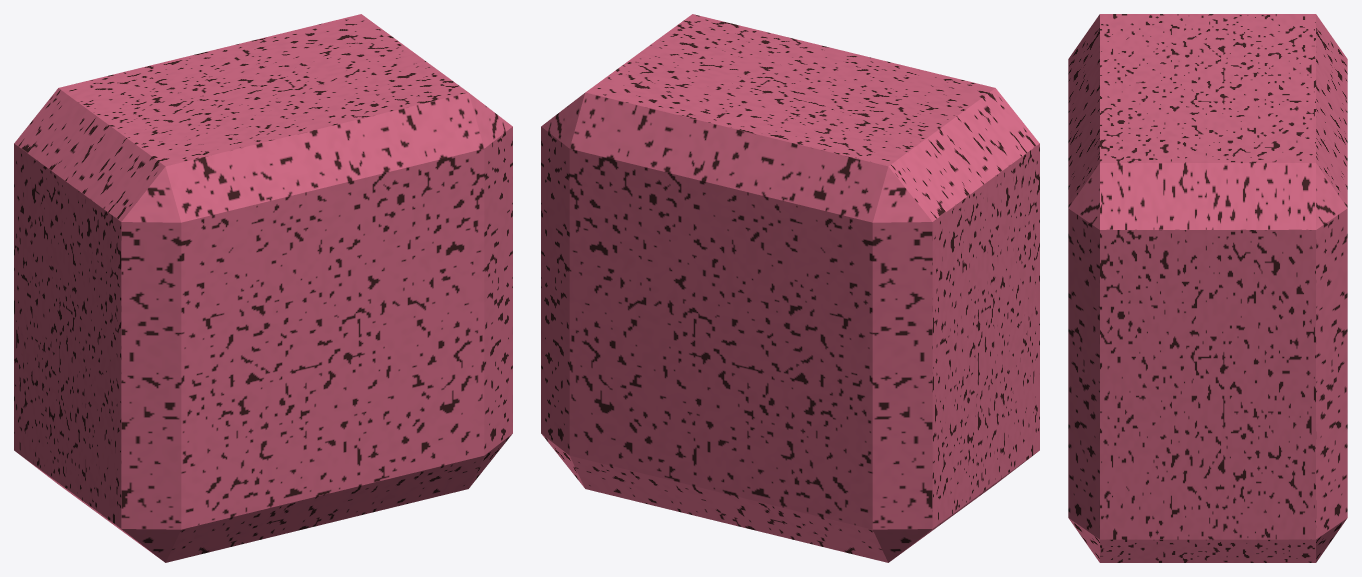
File: barrel.glb
The picture shows the model from 3 angles, left to right: view 1: azimuth 30°, elevation 25°; view 2: azimuth 150°, elevation 25°; view 3: azimuth 270°, elevation 25°; orthographic projection.
Visible parts, largest first — view 1: geometry_0; view 2: geometry_0; view 3: geometry_0.
Boxes of the visible parts, x1,y1,x2,y2 form: geometry_0: [14, 14, 512, 562]; geometry_0: [541, 14, 1039, 562]; geometry_0: [1068, 14, 1347, 562].
Bounding box in the file's own units: 2.96 × 2.87 × 1.81.
Materials: 1 (1 with a texture image).
